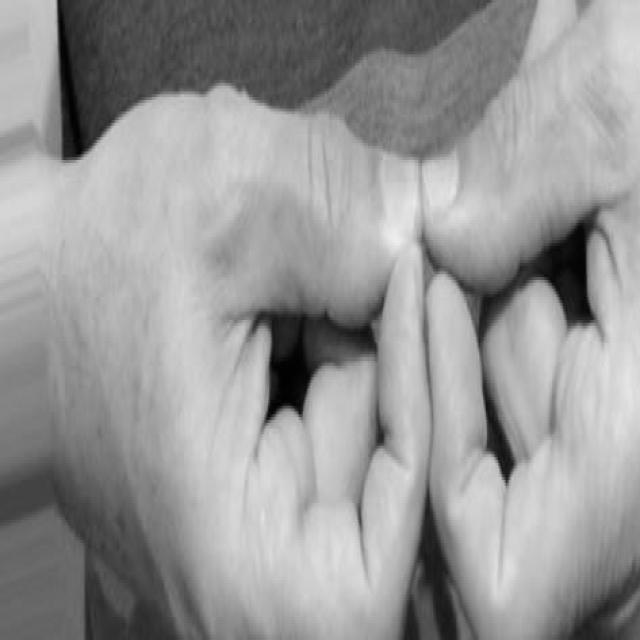B: (62, 51, 639, 640)
